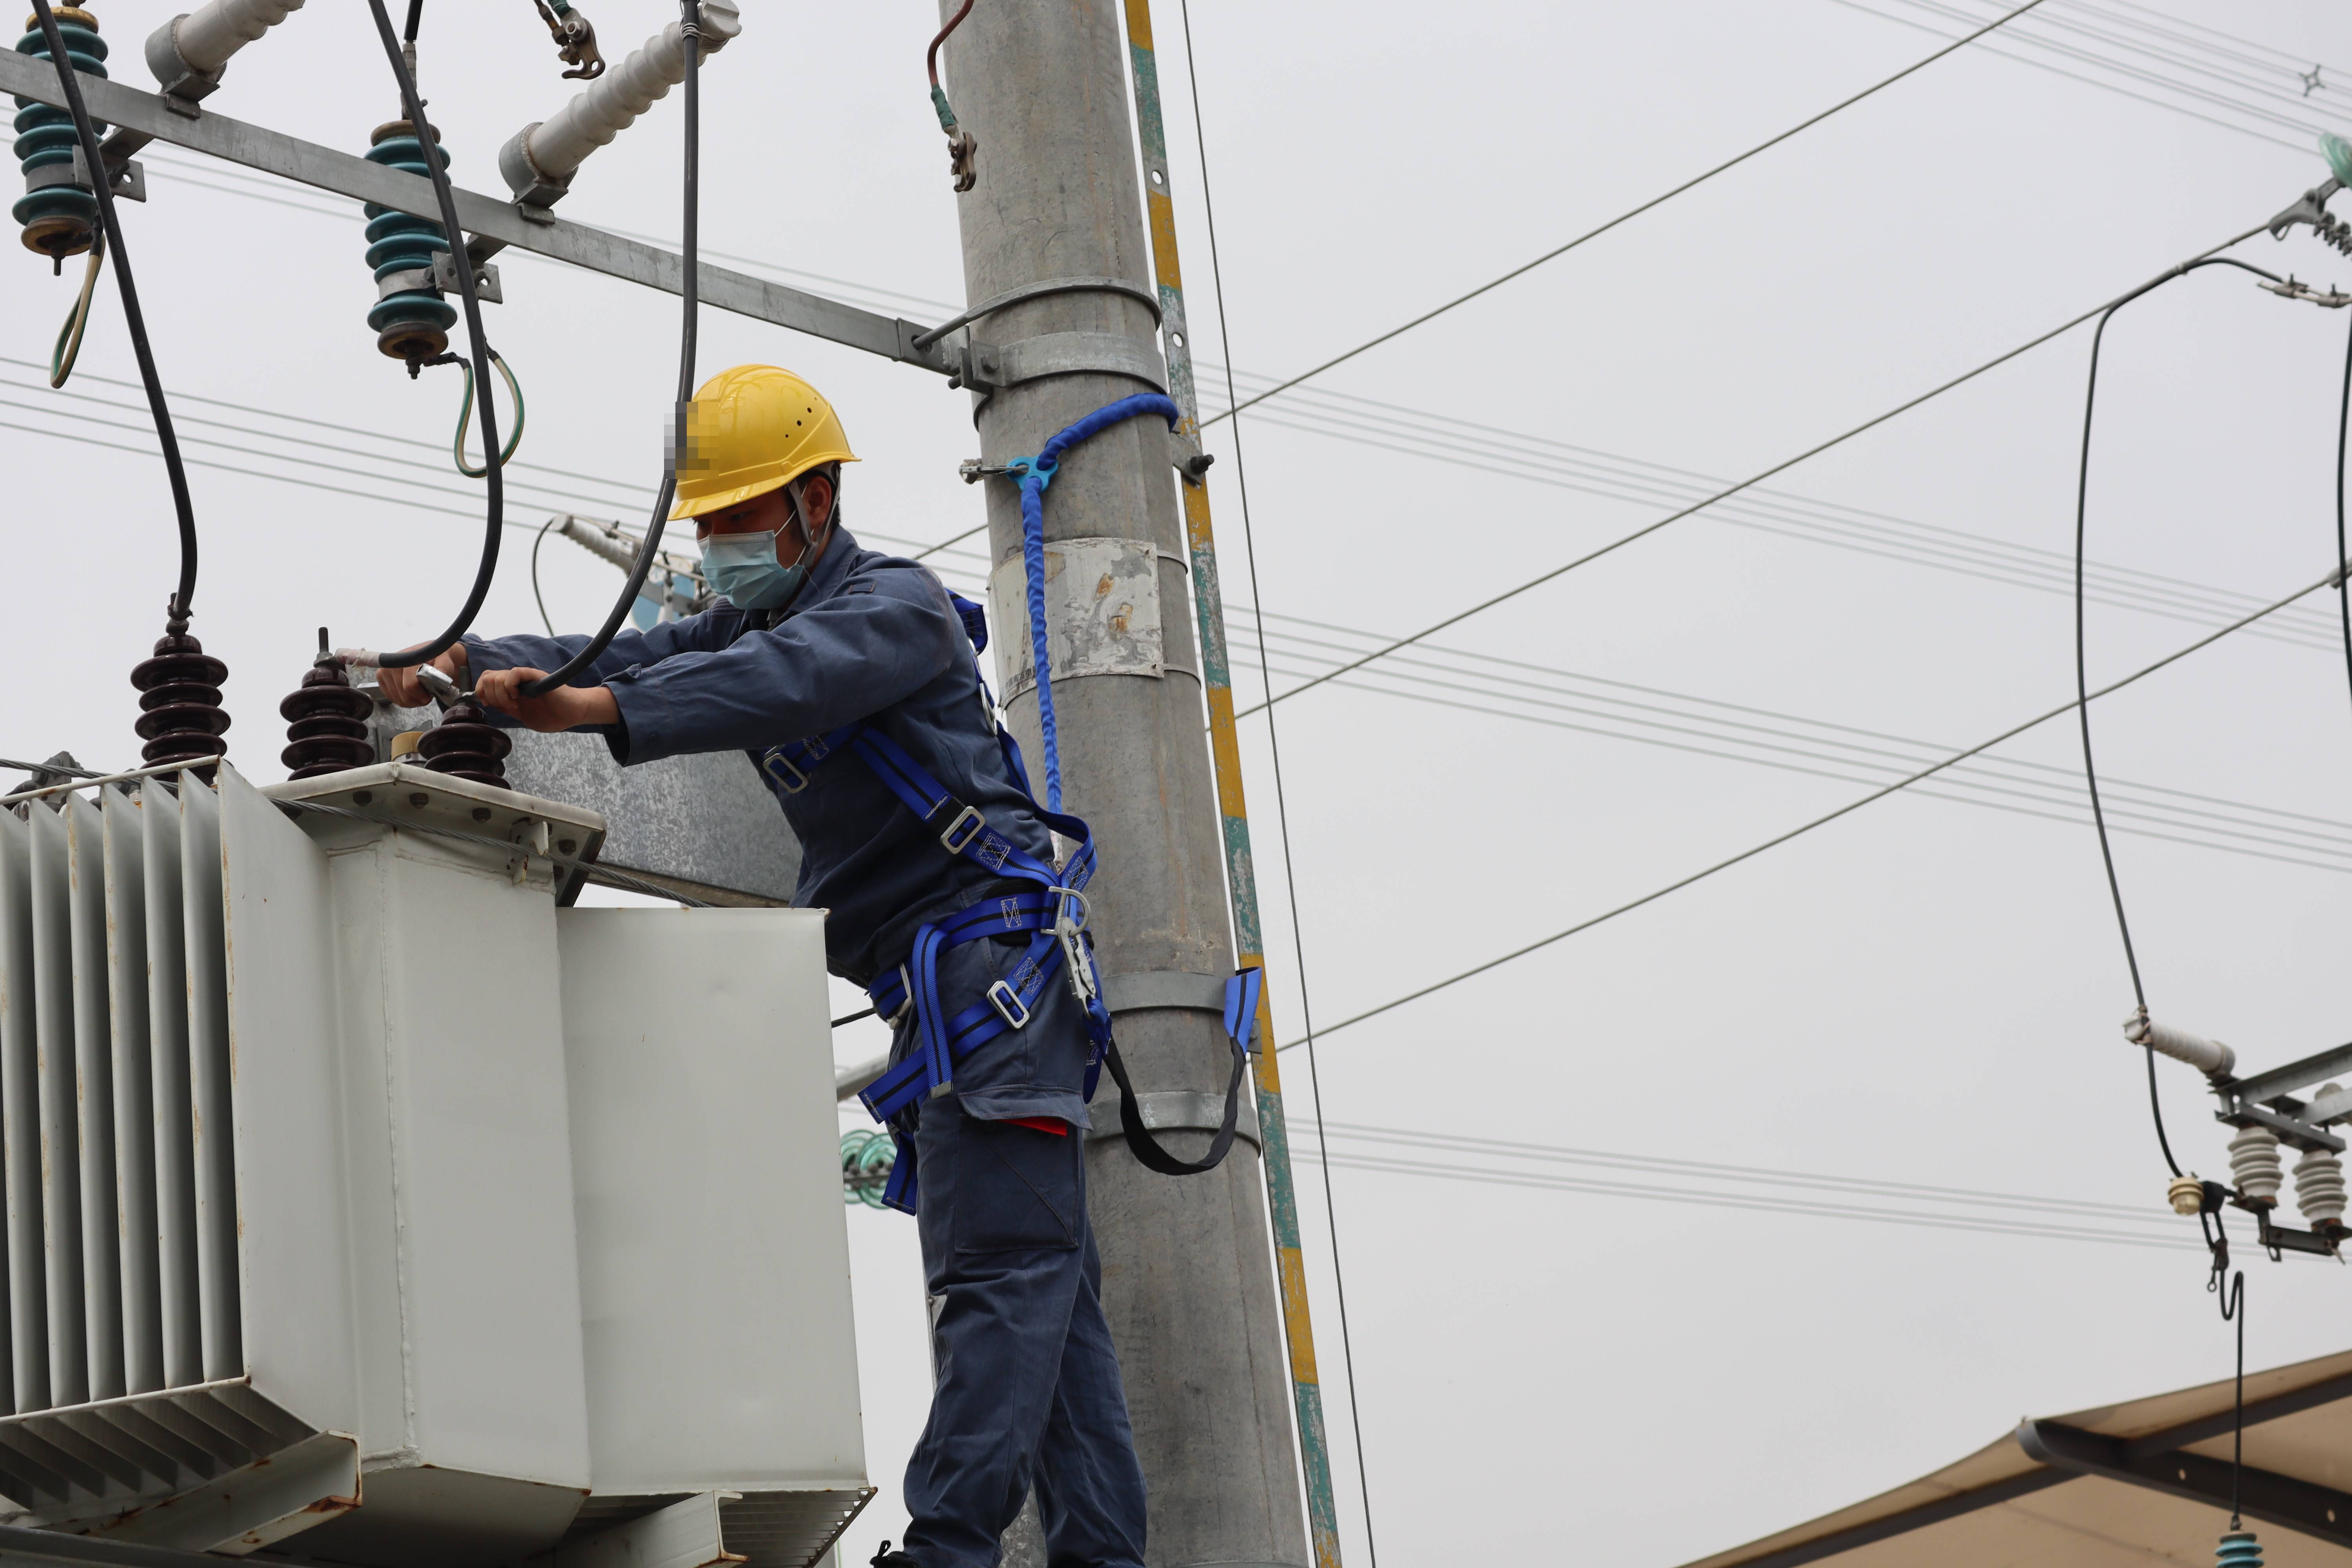downsuit: (845, 945, 1151, 1568)
upsuit: (462, 525, 1059, 878)
